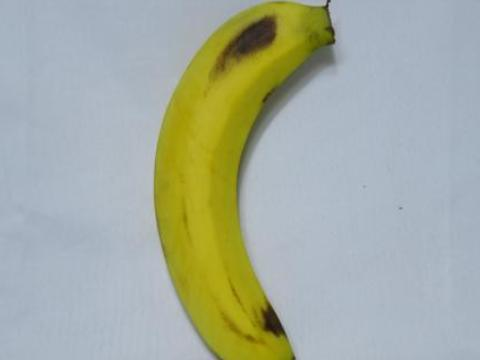freshripe: (142, 0, 340, 359)
